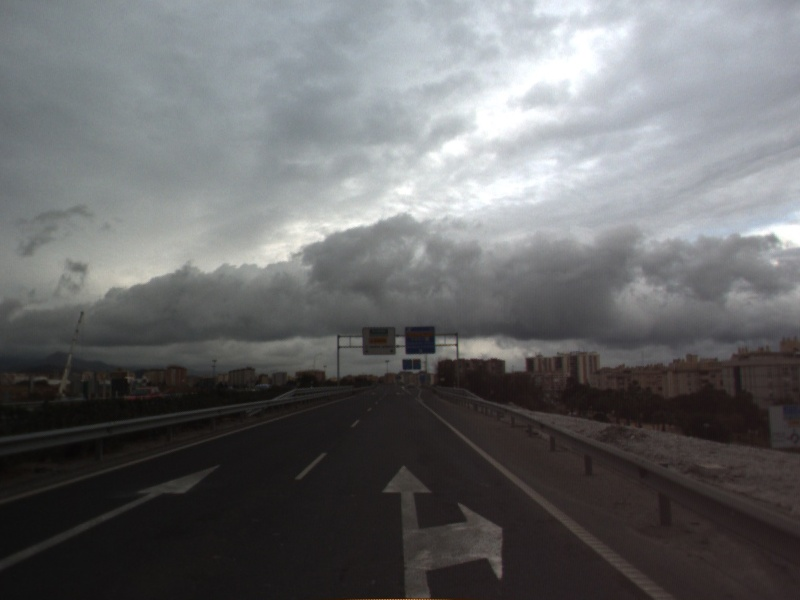STRAIGHT: (1, 459, 225, 570)
STRAIGHT_RIGHT: (379, 460, 506, 600)
